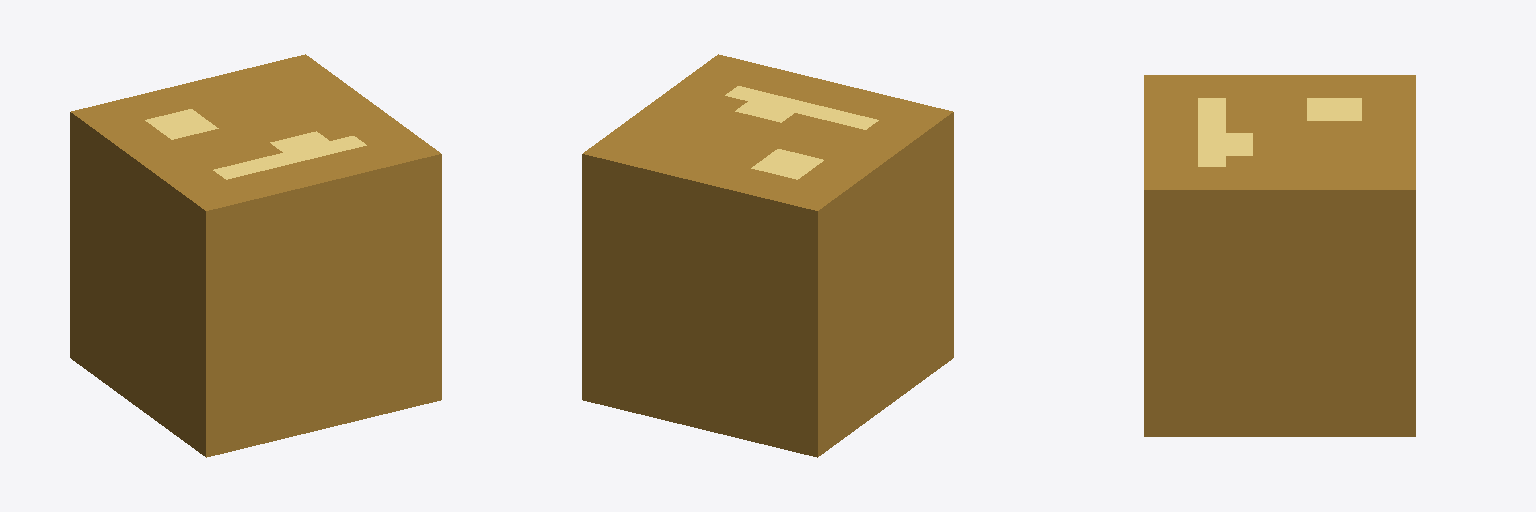
3 renders of one model, left to right at view 1: azimuth 30°, elevation 25°; view 2: azimuth 150°, elevation 25°; view 3: azimuth 270°, elevation 25°, orthographic.
Visible parts, largest first — view 1: object 1; view 2: object 1; view 3: object 1.
Part boxes in pixels (x1,y1,x2,y2): object 1: (70,54,441,457); object 1: (582,54,953,457); object 1: (1144,75,1415,436).
Bounding box in the file's own units: 1 × 1 × 1.
1 materials, 1 textured.